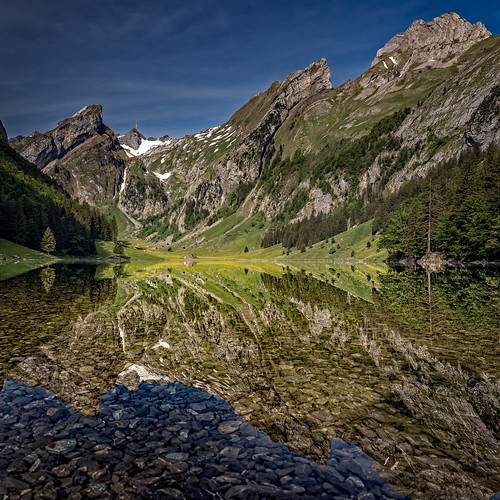mountain: (33, 9, 479, 167)
river: (16, 260, 482, 500)
vegetation: (362, 161, 500, 258), (1, 169, 115, 261)
